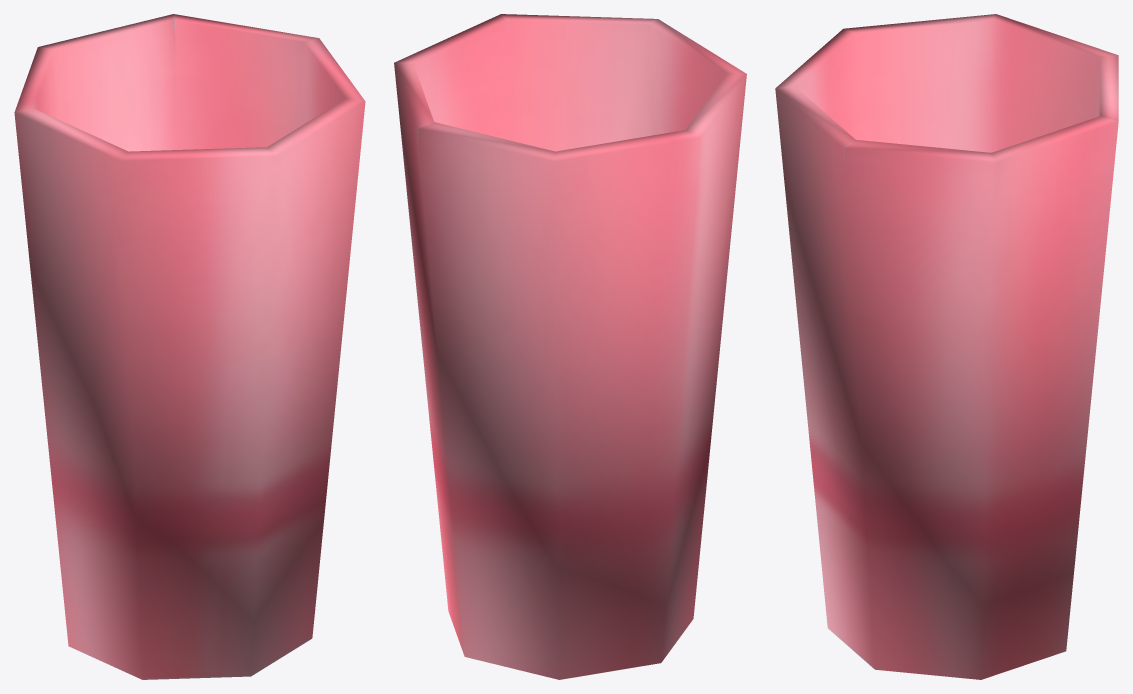
Rendered from Cup.dae.
The picture shows the model from 3 angles, left to right: view 1: azimuth 30°, elevation 25°; view 2: azimuth 150°, elevation 25°; view 3: azimuth 270°, elevation 25°; orthographic projection.
Visible parts, largest first — view 1: Cup; view 2: Cup; view 3: Cup.
Part boxes in pixels (box(x1,y1,x2,y2)): Cup: box(14, 14, 365, 679); Cup: box(394, 14, 746, 679); Cup: box(775, 14, 1118, 679).
Bounding box in the file's own units: 0.1534 × 0.1496 × 0.2603.
Materials: 1 (1 with a texture image).
